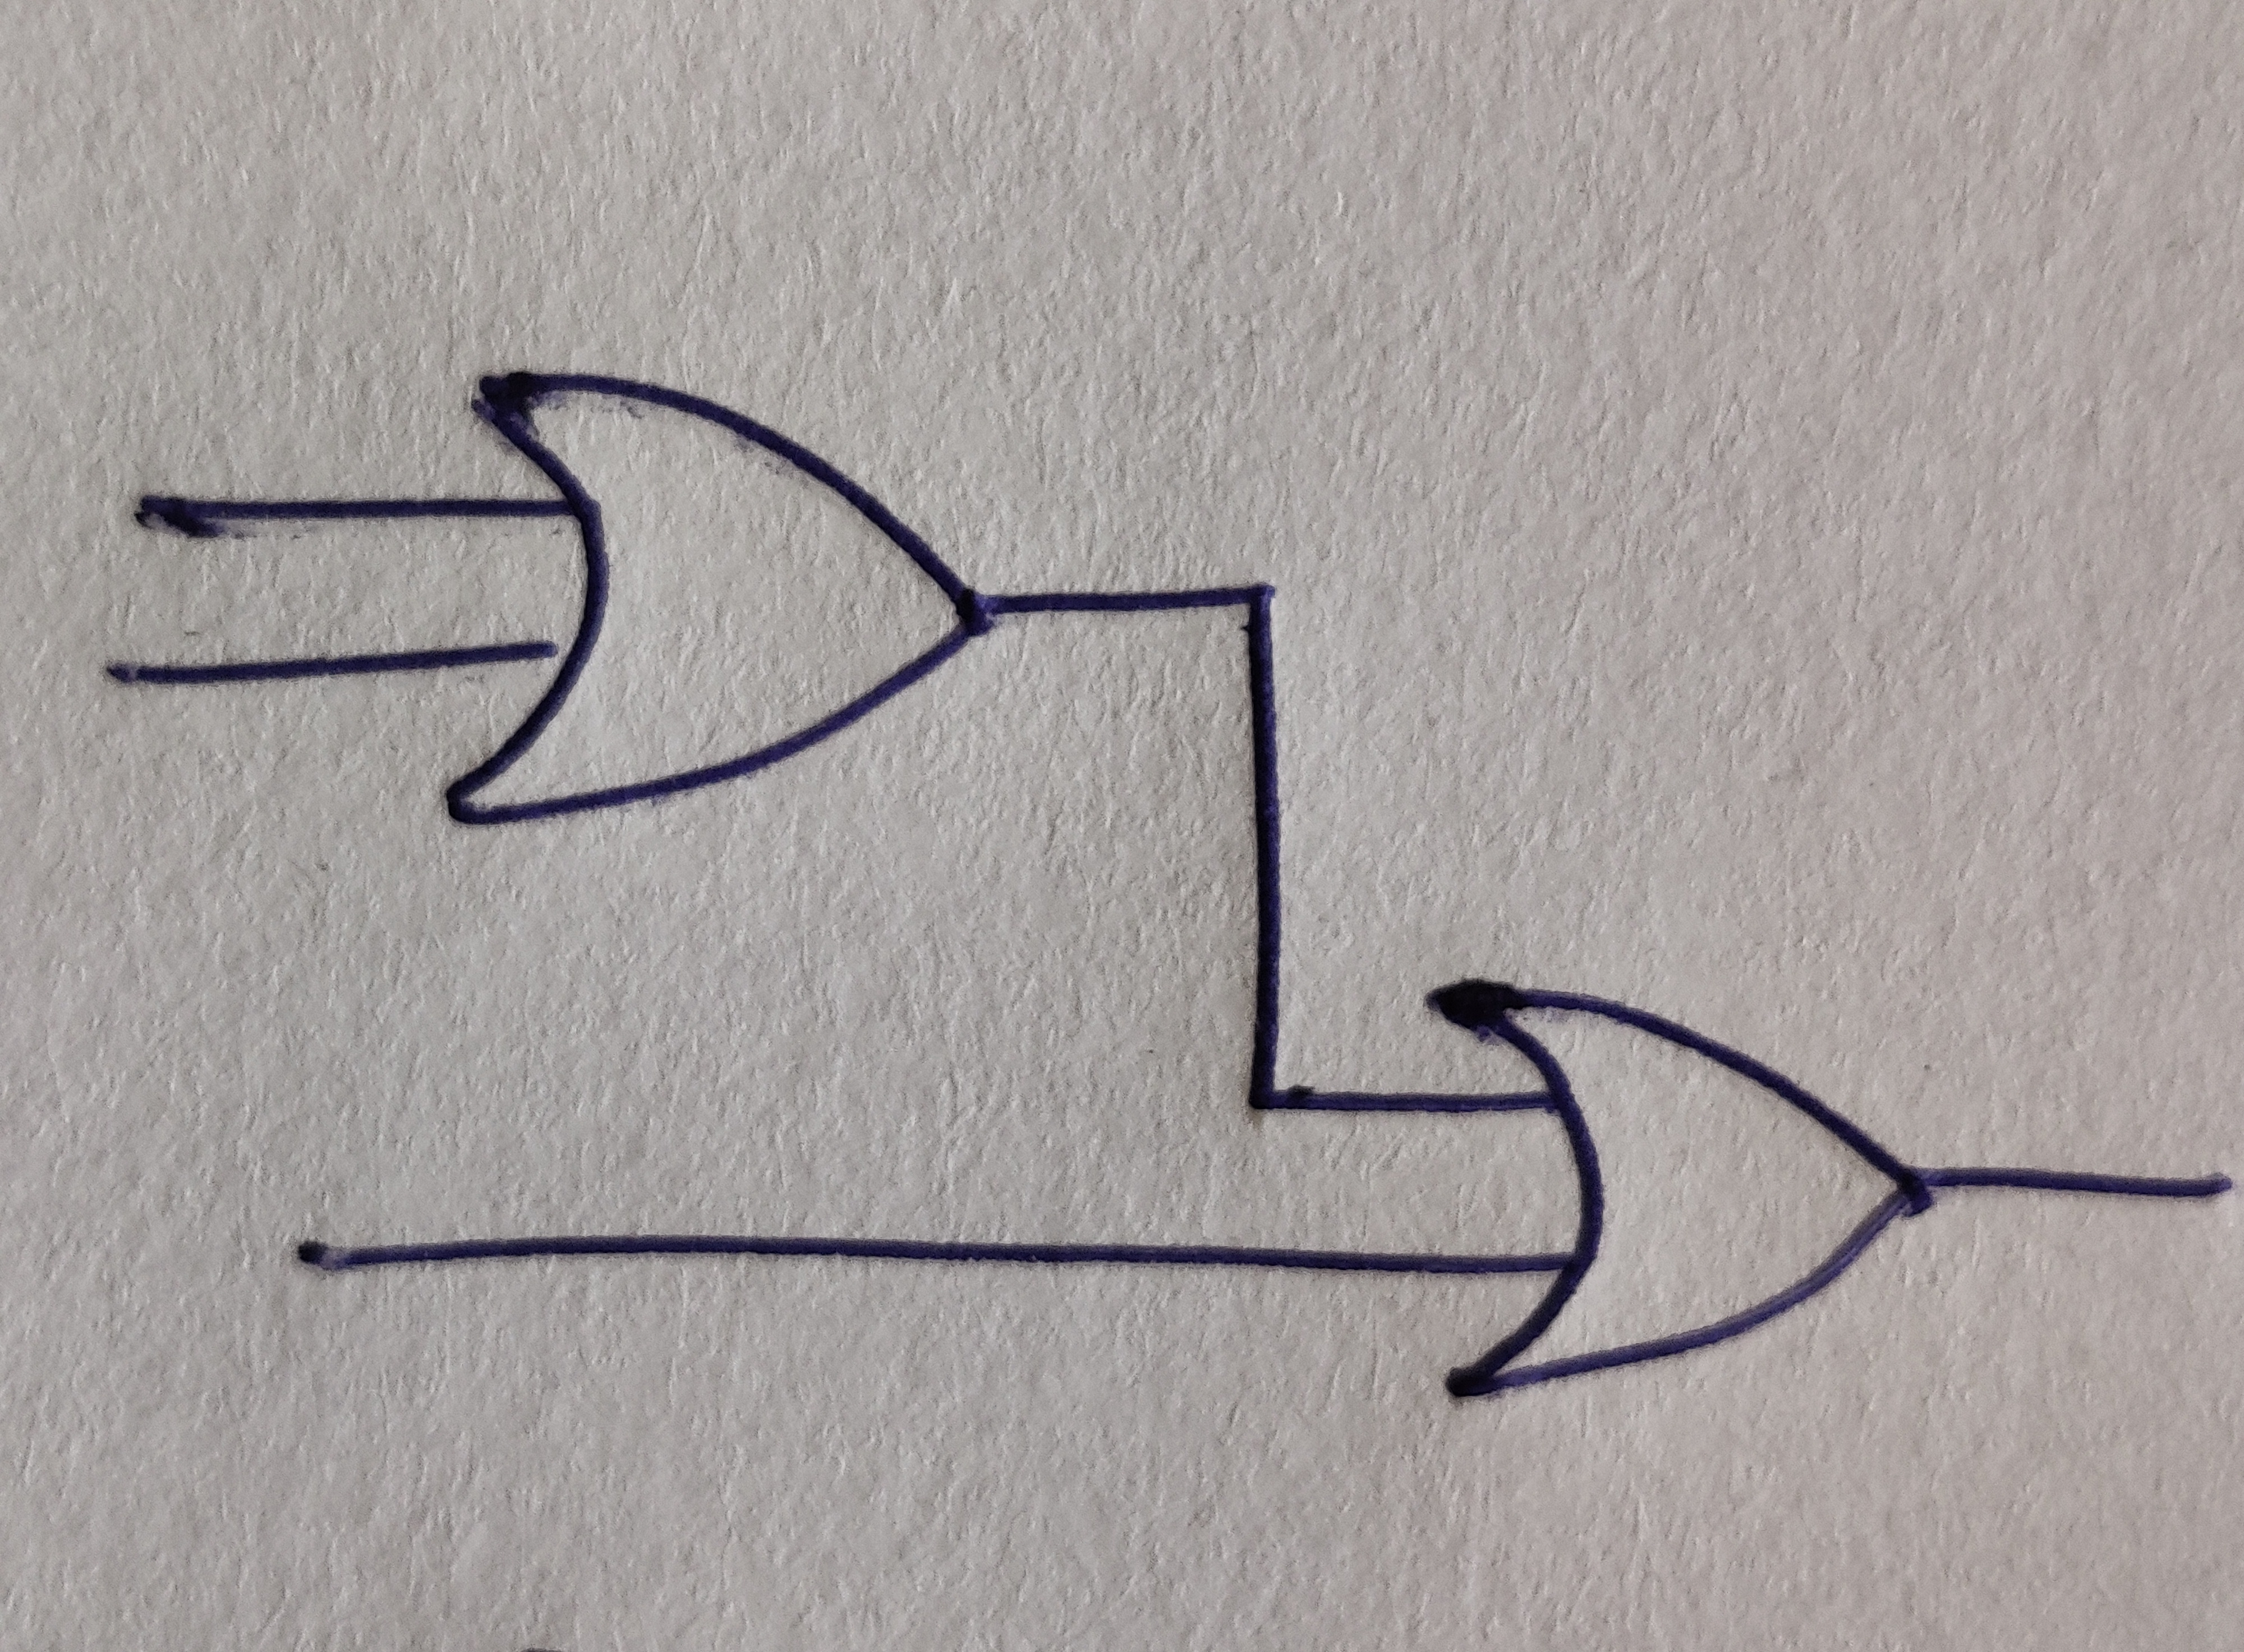or: (444, 371, 988, 824), (1427, 981, 1930, 1401)
